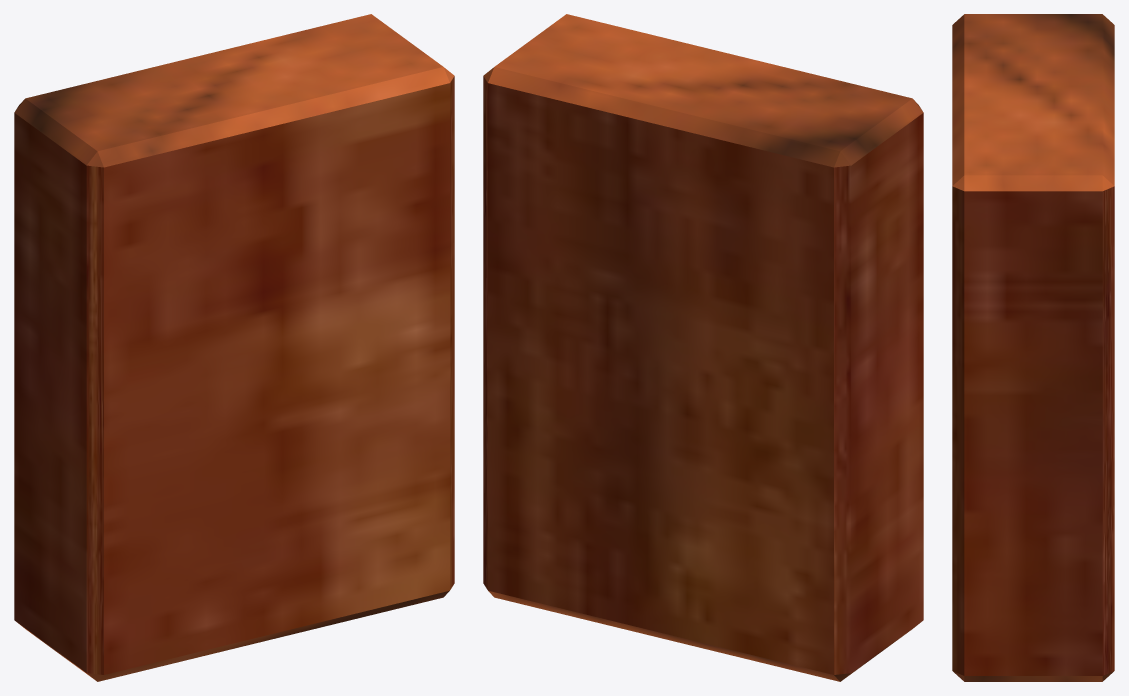
Rendered from ytsy_J_saizi_09.FBX.
The picture shows the model from 3 angles, left to right: view 1: azimuth 30°, elevation 25°; view 2: azimuth 150°, elevation 25°; view 3: azimuth 270°, elevation 25°; orthographic projection. The views are drawn at different scales.
Visible parts, largest first — view 1: ytsy_J_saizi_09; view 2: ytsy_J_saizi_09; view 3: ytsy_J_saizi_09.
Part boxes in pixels (x1,y1,x2,y2): ytsy_J_saizi_09: (14, 14, 454, 681); ytsy_J_saizi_09: (483, 14, 923, 681); ytsy_J_saizi_09: (952, 14, 1114, 681).
Size of the model in its own units: 2 by 2.76 by 0.8.
